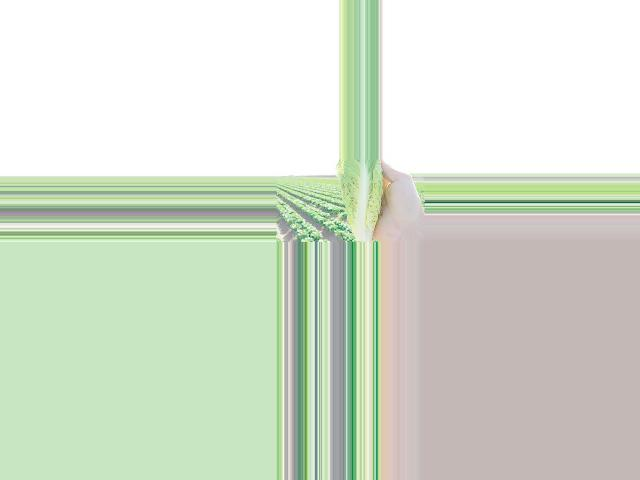lettuce: (338, 161, 382, 243)
